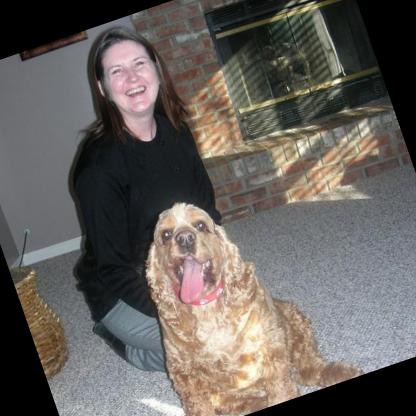cocker_spaniel: (115, 163, 363, 416)
